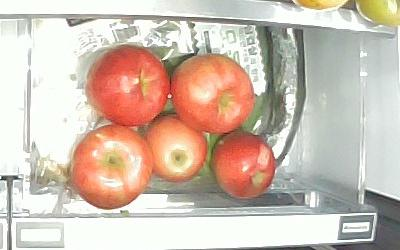apple: (85, 44, 171, 127), (69, 126, 154, 209), (170, 54, 255, 134), (212, 129, 277, 201), (146, 114, 209, 182)
